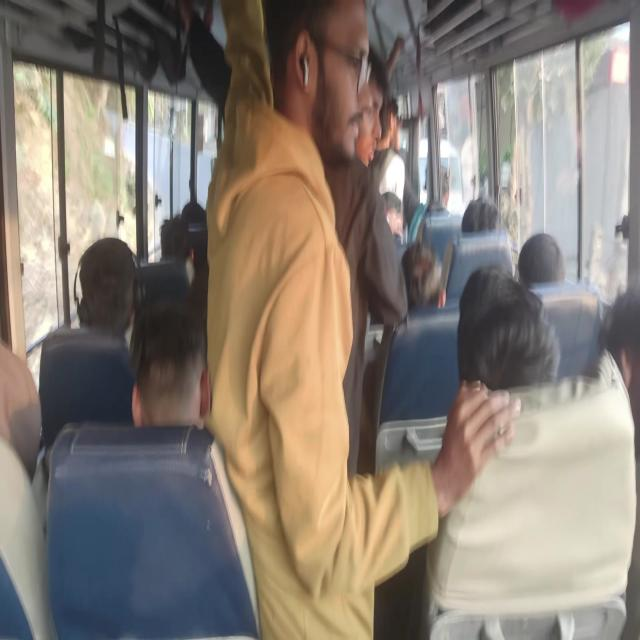person: (269, 0, 388, 143), (465, 272, 543, 402), (0, 363, 49, 543), (132, 277, 198, 410), (75, 232, 146, 343), (605, 286, 640, 434), (396, 242, 454, 325), (348, 72, 392, 172), (365, 64, 408, 154), (521, 212, 568, 290), (460, 189, 500, 248), (376, 179, 412, 239), (164, 213, 201, 270), (430, 161, 464, 215), (176, 195, 210, 237)
